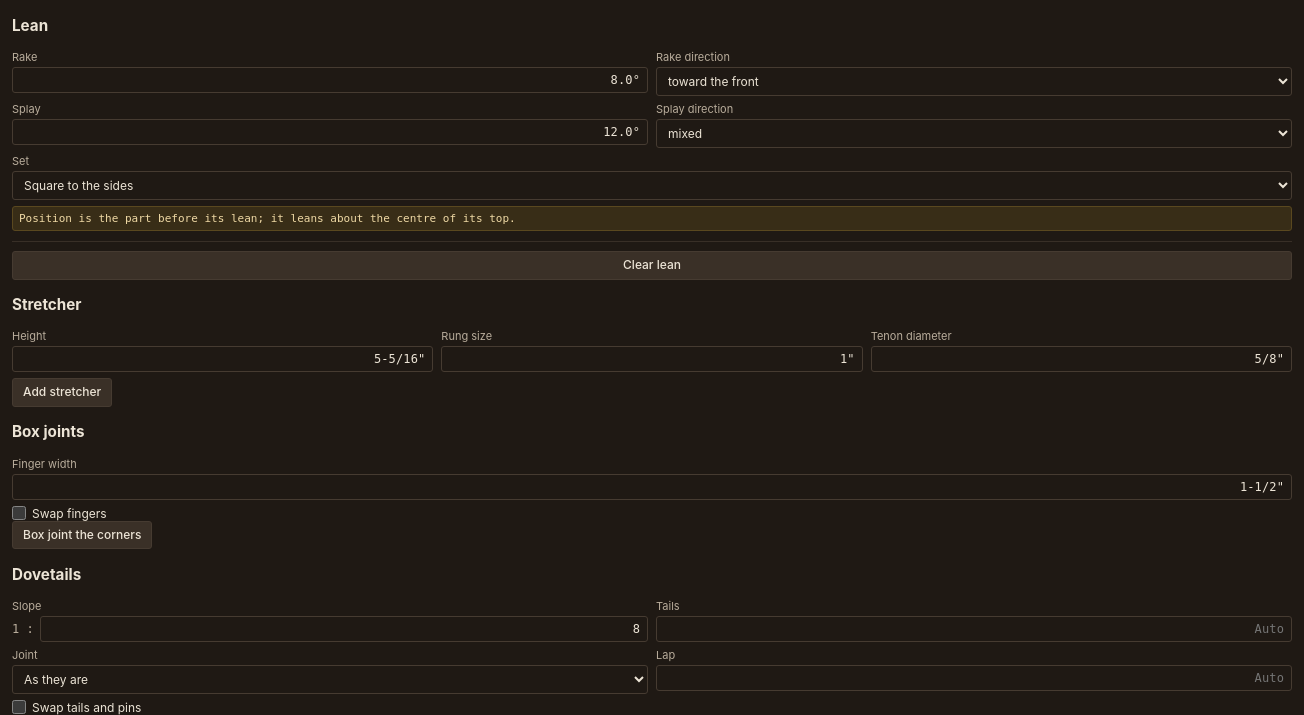
Test: the Stretcher section, review fix round 1 › M3: a Tenon diameter commit clears the alert
(page scrolled)
Replace the text in the field labelled "Height" with "16-1/2": (223, 359) [12, 346, 433, 372]
Then press Enter
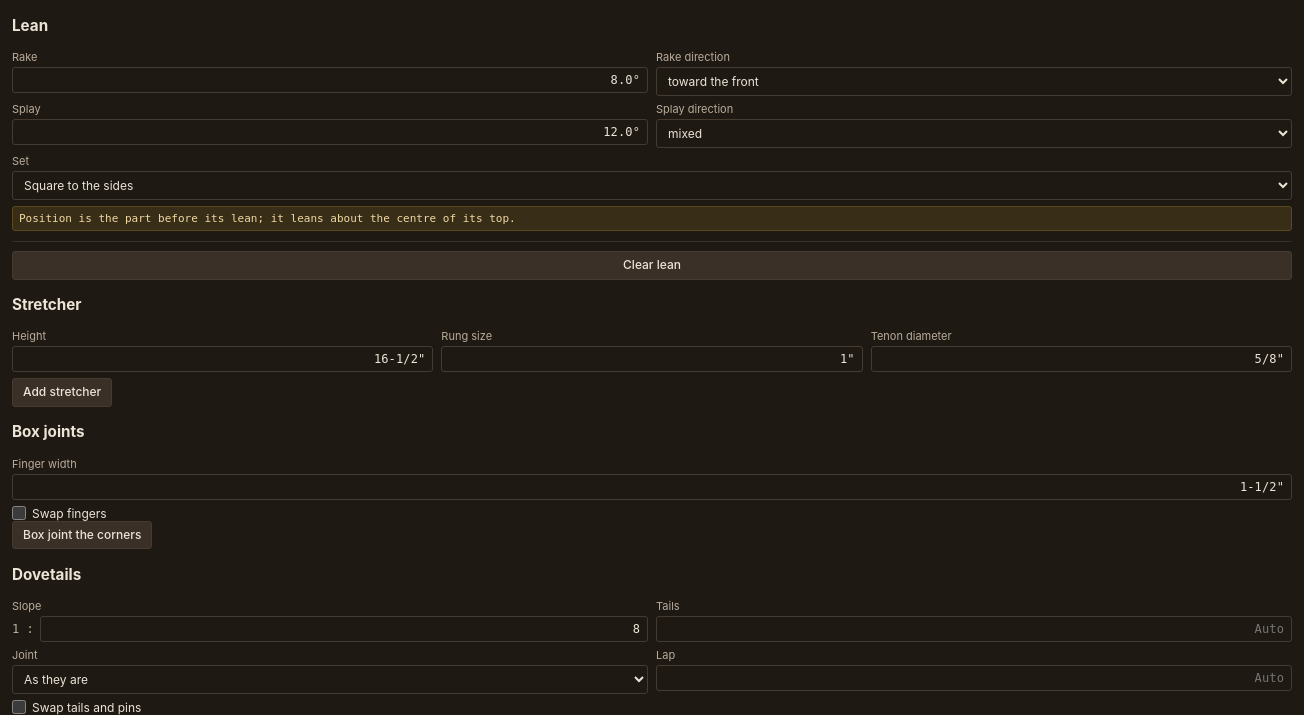
Click the button "Add stretcher": (62, 393) [12, 378, 112, 407]
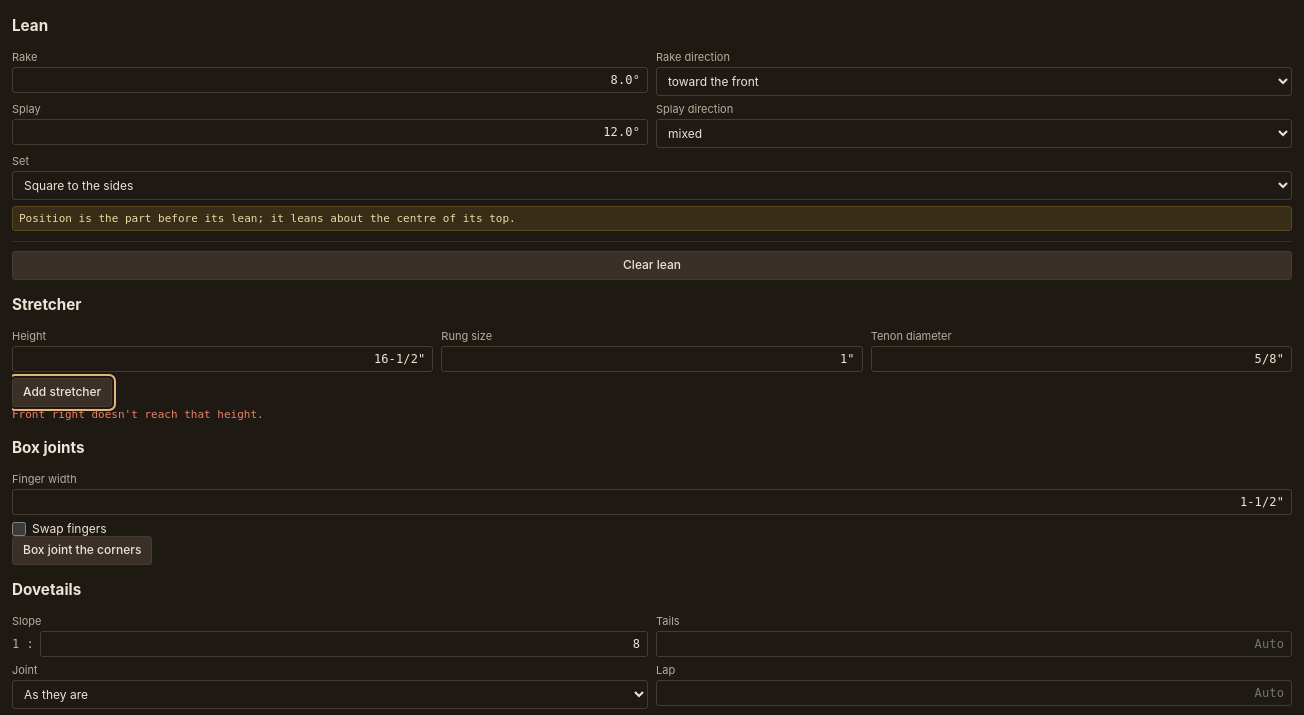
Now the message "Front right doesn't reach that height." is shown, box [12, 408, 264, 421]
Replace the text in the field labelled "Tenon diameter" with "1/2": (1081, 359) [871, 346, 1292, 372]
Then press Enter
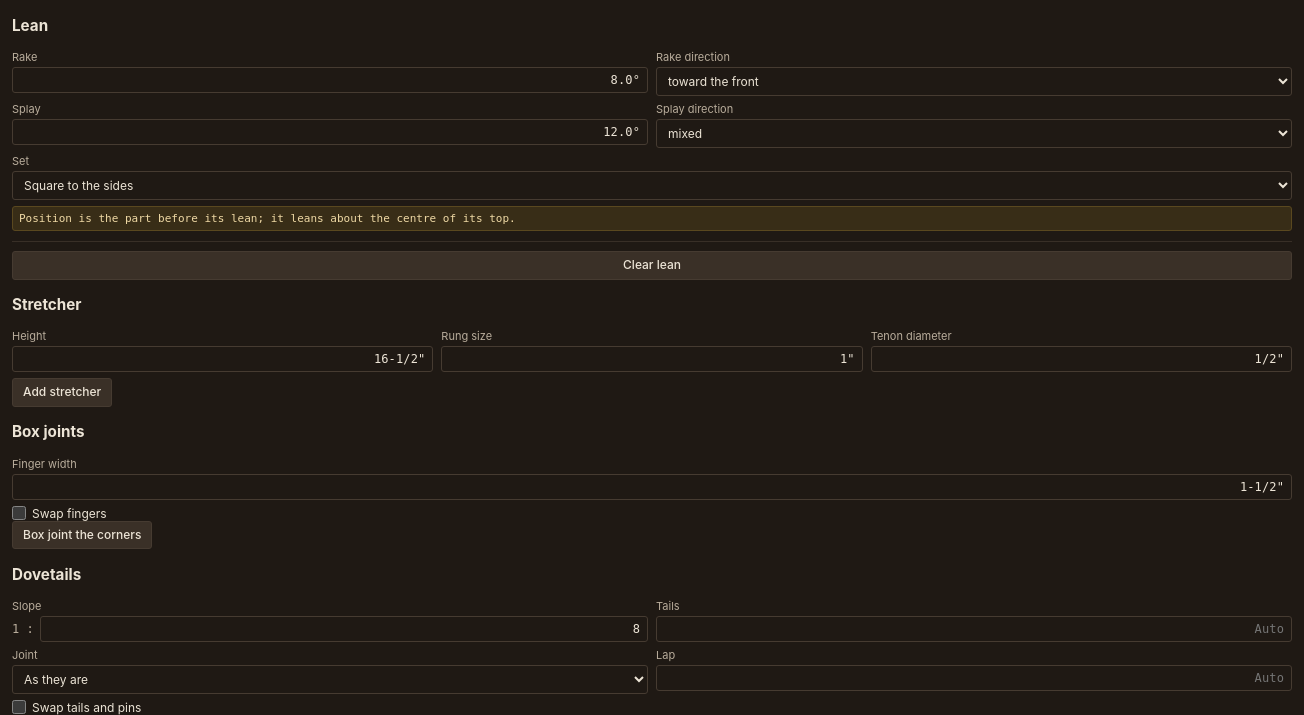
Now the message "Front right doesn't reach that height." is gone
